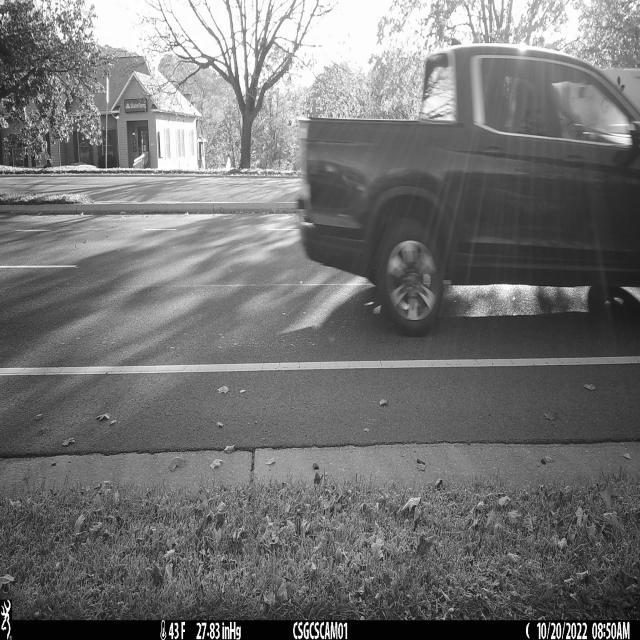Pickup: (299, 44, 640, 338)
